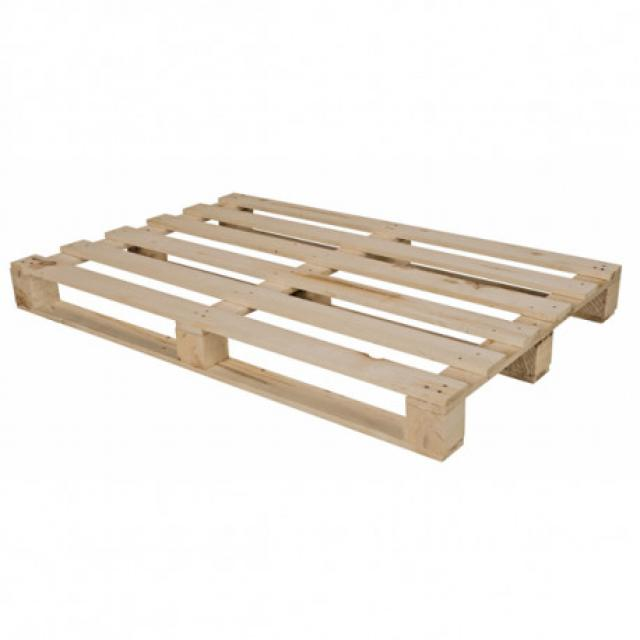Palette: (6, 187, 640, 465)
